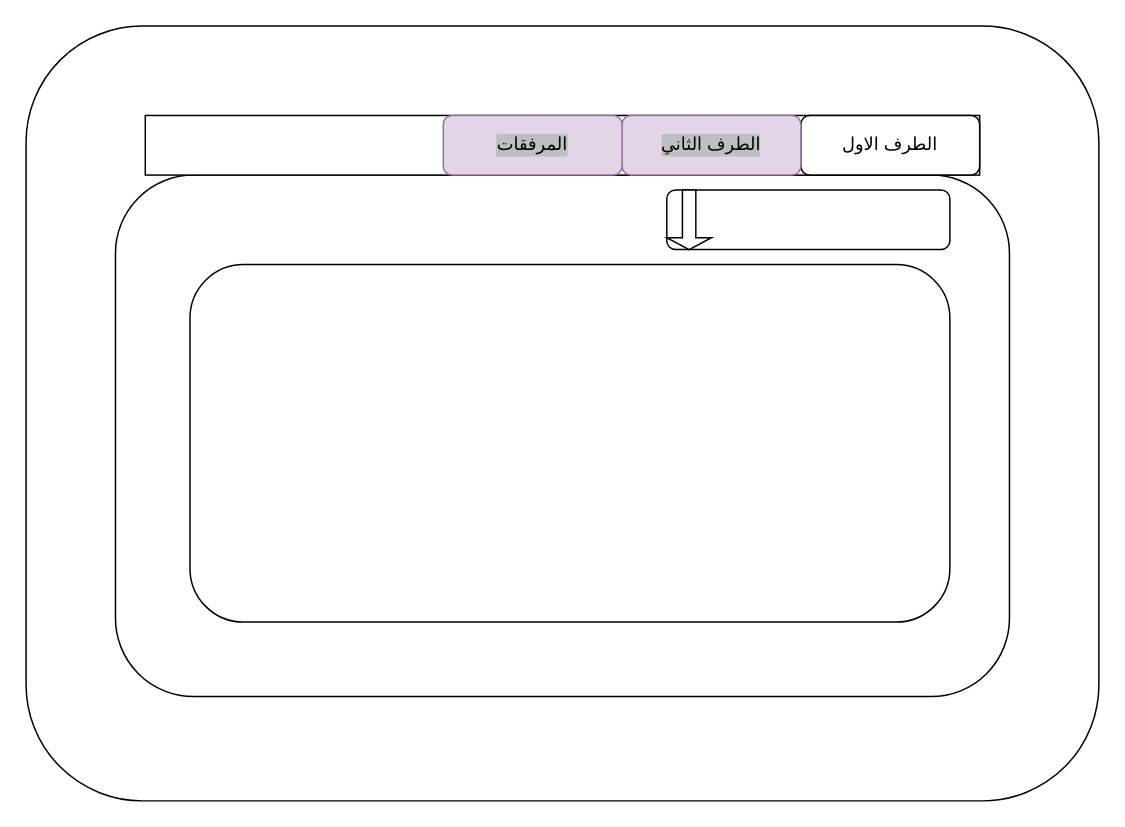
Image size: 1125x827. Some labels were removed from this diagram. Each missing label, with the box of its shape:
Render Form: (188, 263, 950, 622)
اختر التصنيف: (665, 188, 950, 250)
